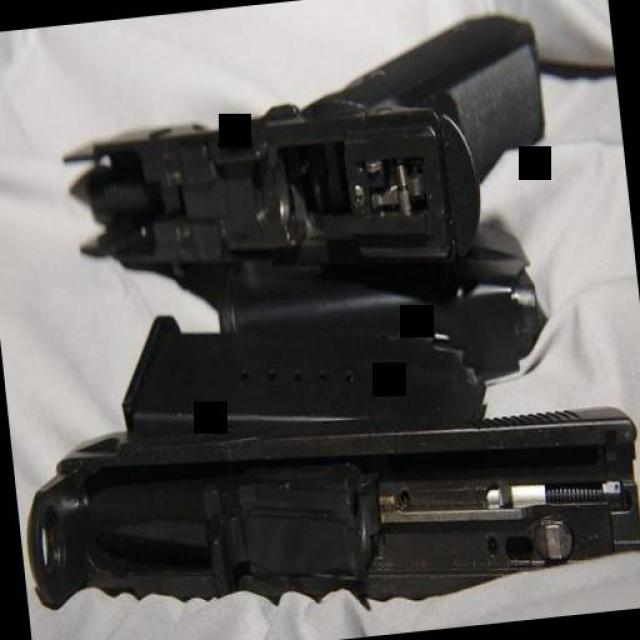gun: (0, 248, 640, 632), (46, 8, 558, 296)
